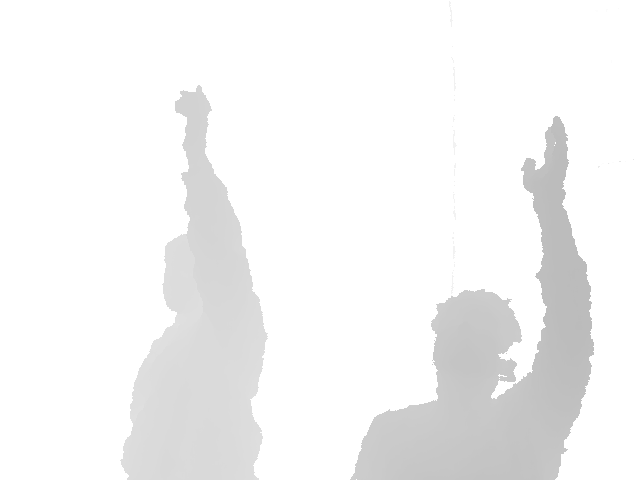hand: (521, 114, 568, 206), (174, 85, 212, 127)
head: (431, 289, 521, 408), (163, 231, 221, 322)
person: (344, 114, 596, 480), (119, 85, 267, 480)
